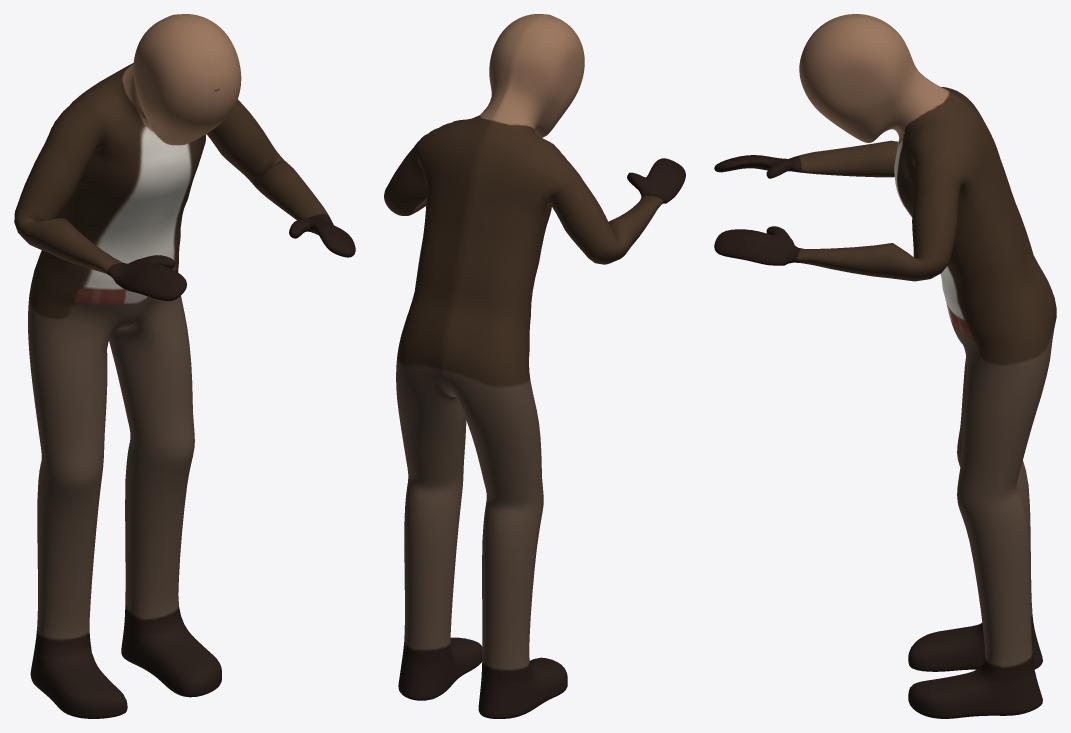
The model's file is dude.fbx.
The picture shows the model from 3 angles, left to right: view 1: azimuth 30°, elevation 25°; view 2: azimuth 150°, elevation 25°; view 3: azimuth 270°, elevation 25°; orthographic projection. The views are drawn at different scales.
Visible parts, largest first — view 1: Guy; view 2: Guy; view 3: Guy.
Boxes of the visible parts, x1,y1,x2,y2 form: Guy: (14,14,355,718); Guy: (384,14,685,718); Guy: (714,14,1056,718).
Size of the model in its own units: 175 by 445 by 207.
Materials: 3 (3 with a texture image).
